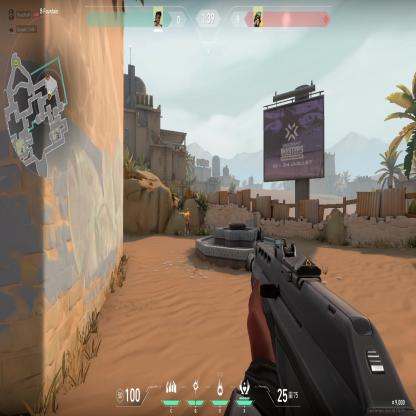enemy: (182, 207, 192, 237)
